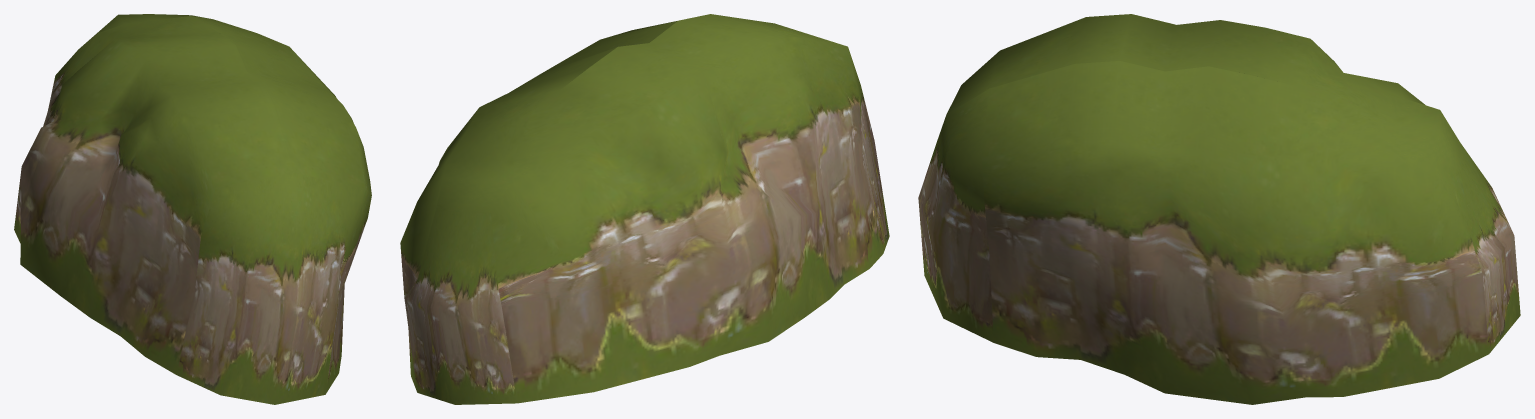
Rendered from gaoyuan_bianyuan_04 (11).fbx.
3 views of the same model, side by side, from view 1: azimuth 30°, elevation 25°; view 2: azimuth 150°, elevation 25°; view 3: azimuth 270°, elevation 25° (orthographic). The views are drawn at different scales.
Parts seen in each view (by area): view 1: gaoyuan_bianyuan_04 (11); view 2: gaoyuan_bianyuan_04 (11); view 3: gaoyuan_bianyuan_04 (11).
Part boxes in pixels (box(x1,y1,x2,y2)): gaoyuan_bianyuan_04 (11): box(14, 14, 371, 404); gaoyuan_bianyuan_04 (11): box(400, 14, 889, 404); gaoyuan_bianyuan_04 (11): box(918, 14, 1520, 404).
Size of the model in its own units: 0.7056 by 0.5752 by 1.1.
